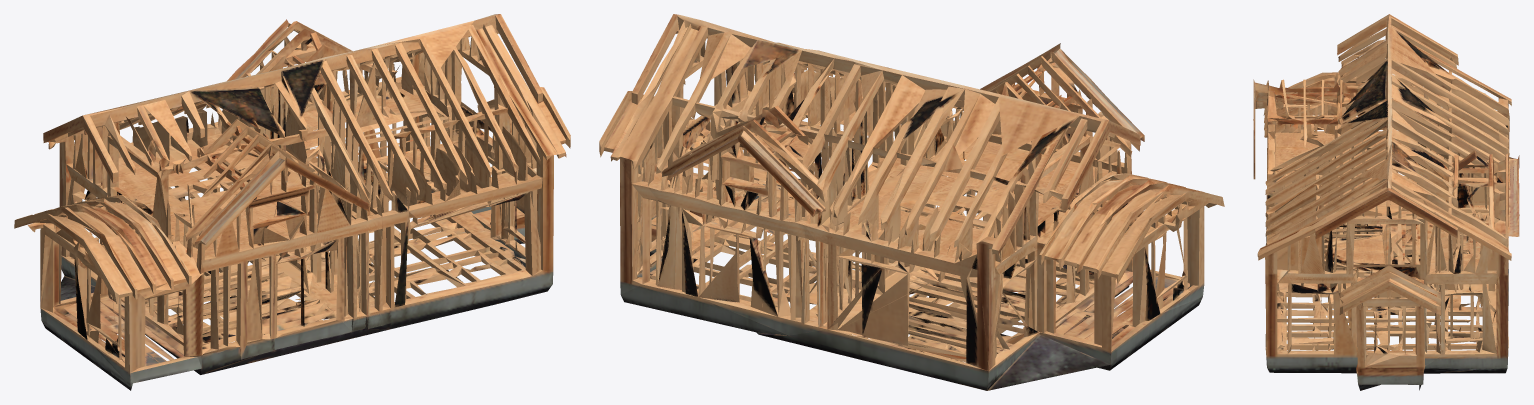
Rendered from house-framing.glb.
3 views of the same model, side by side, from view 1: azimuth 30°, elevation 25°; view 2: azimuth 150°, elevation 25°; view 3: azimuth 270°, elevation 25° (orthographic). The views are drawn at different scales.
Bounding box in the file's own units: 1.9 × 0.8056 × 1.01.
1 material, 1 textured.
